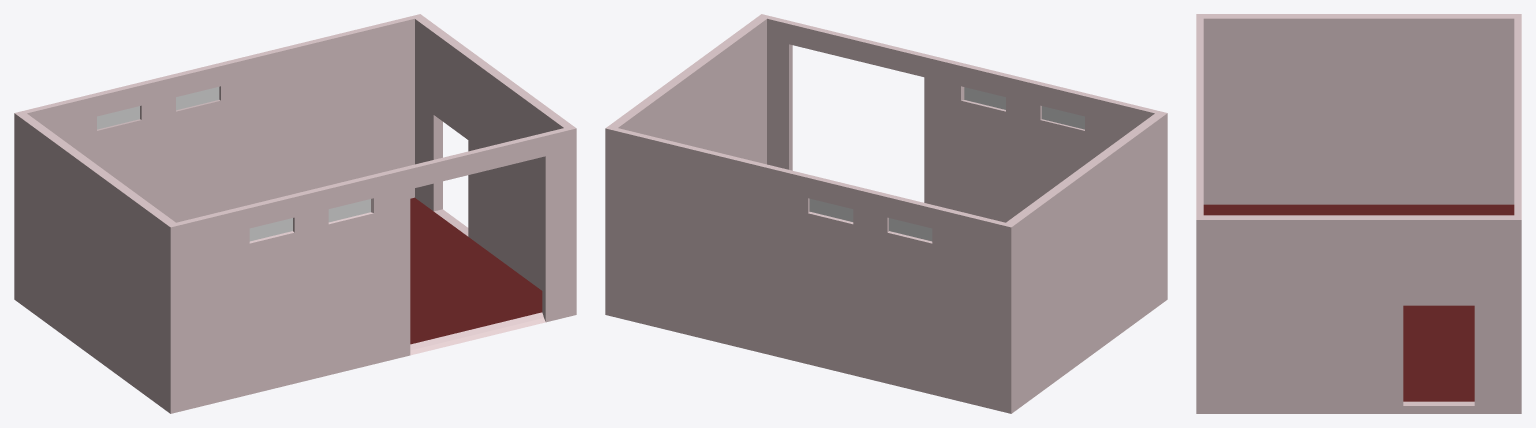
File: garagebuilding.fbx
The picture shows the model from 3 angles, left to right: view 1: azimuth 30°, elevation 25°; view 2: azimuth 150°, elevation 25°; view 3: azimuth 270°, elevation 25°; orthographic projection. The views are drawn at different scales.
Parts seen in each view (by area): view 1: Building Walls; view 2: Building Walls; view 3: Building Walls.
Boxes of the visible parts, x1,y1,x2,y2 form: Building Walls: [14, 14, 576, 413]; Building Walls: [605, 14, 1167, 413]; Building Walls: [1196, 14, 1521, 413].
Size of the model in its own units: 3600 by 1580 by 2400.
